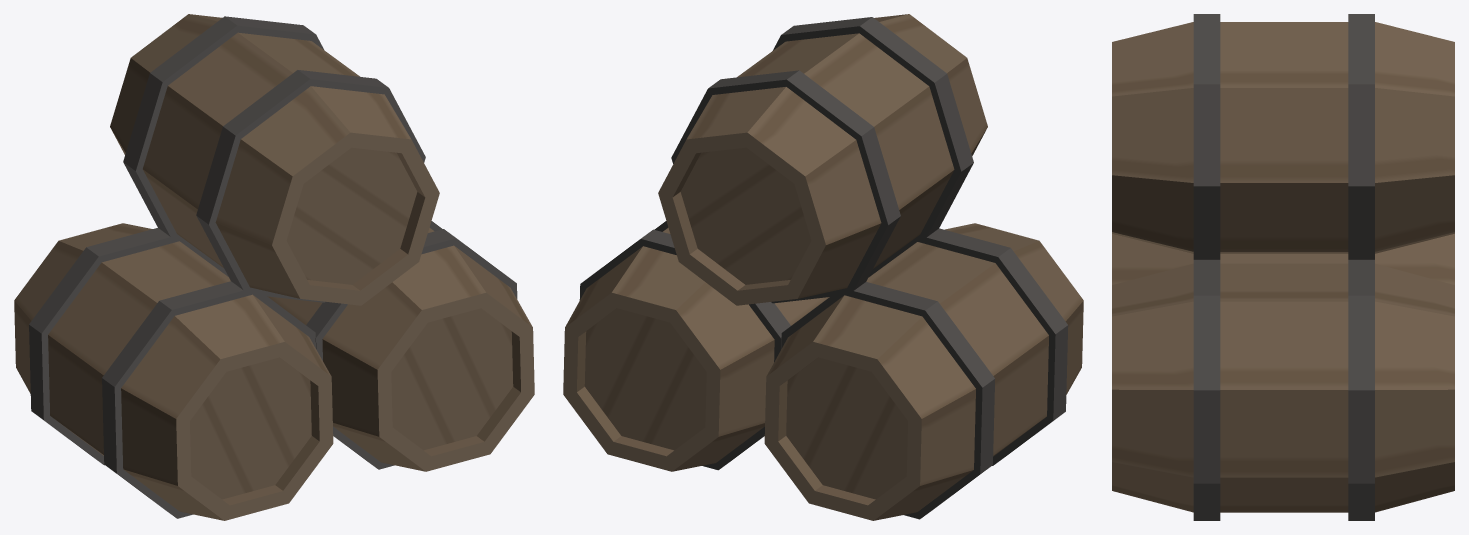
Rendered from SD_Prop_Barrel_03.fbx.
3 views of the same model, side by side, from view 1: azimuth 30°, elevation 25°; view 2: azimuth 150°, elevation 25°; view 3: azimuth 270°, elevation 25° (orthographic). The views are drawn at different scales.
Parts seen in each view (by area): view 1: SD_Prop_Barrel_03; view 2: SD_Prop_Barrel_03; view 3: SD_Prop_Barrel_03.
Part boxes in pixels (x1,y1,x2,y2): SD_Prop_Barrel_03: [14, 14, 534, 520]; SD_Prop_Barrel_03: [563, 14, 1083, 520]; SD_Prop_Barrel_03: [1112, 14, 1454, 520].
Size of the model in its own units: 2.51 by 2.42 by 1.74.
